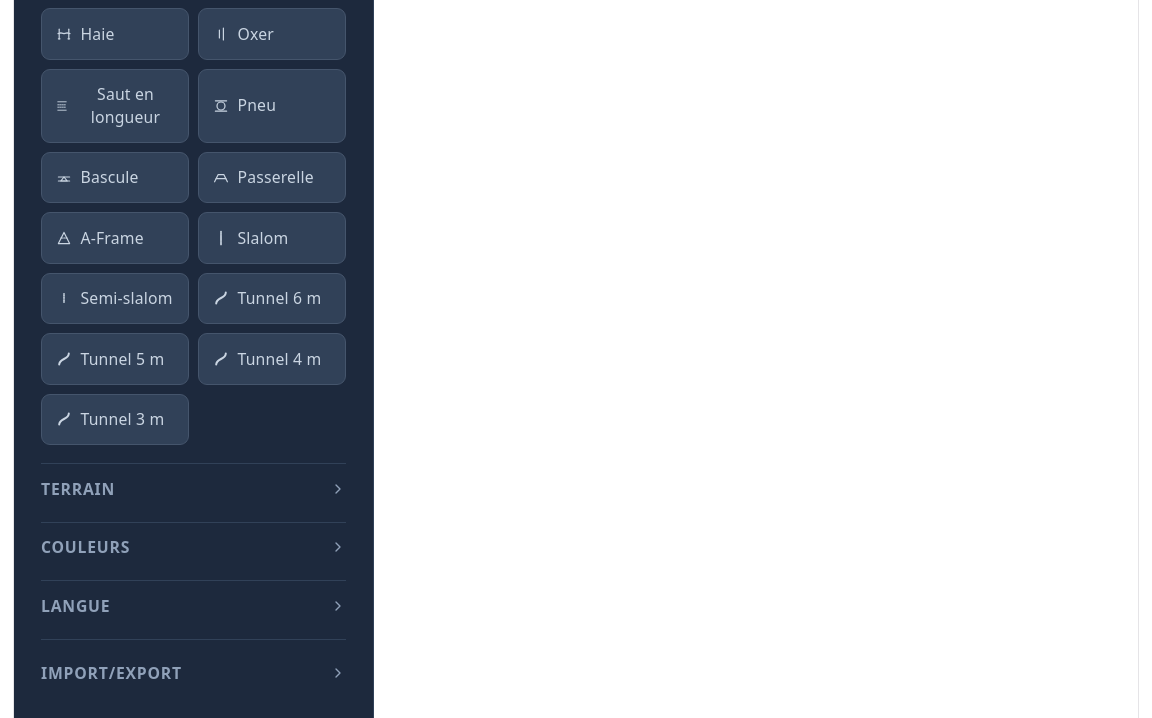
Scenario: Sidebar tunnel tools (US-020) › arms the matching tunnel tool when a tunnel button is clicked
(page scrolled)
What coordinates should you click on to do the following:
click the button "Tunnel 5 m"
I would click on:
 (115, 359)
Its box is [41,333,189,385].
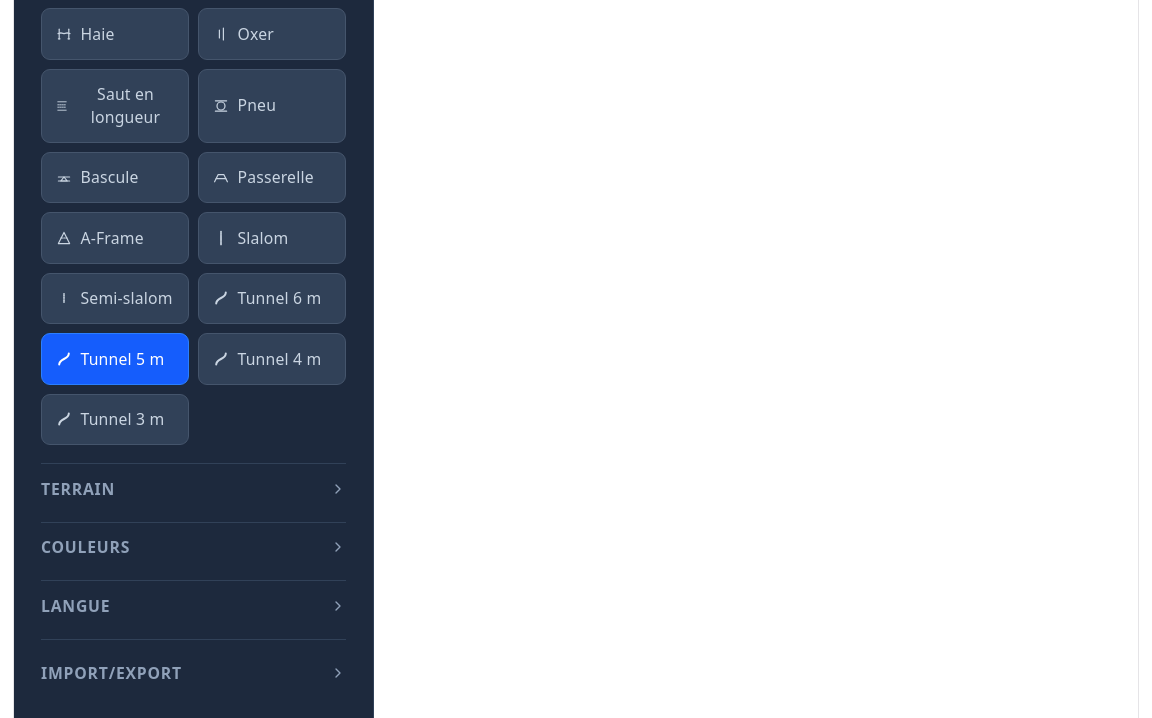
Expected: the button "Tunnel 5 m" is pressed, [41,333,189,385]
